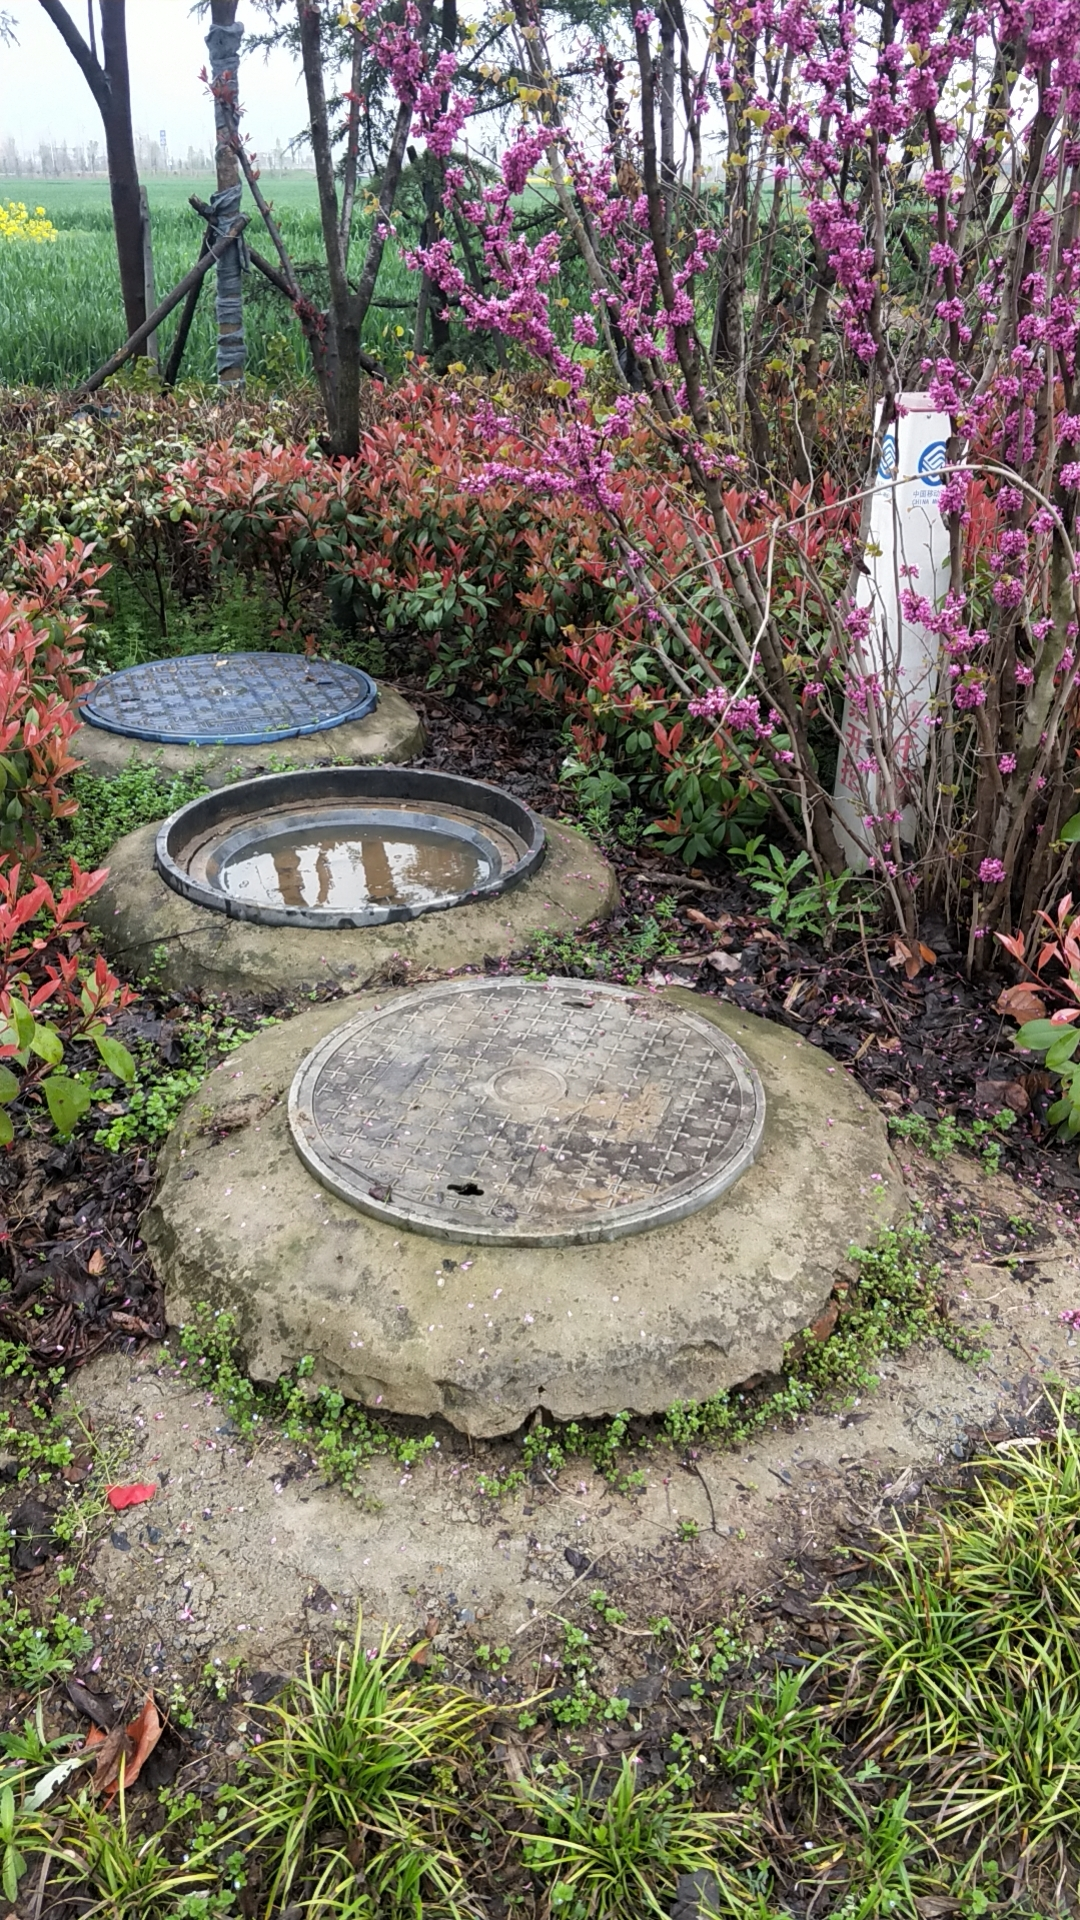well: (284, 975, 771, 1247), (148, 756, 554, 924), (80, 650, 386, 748)
